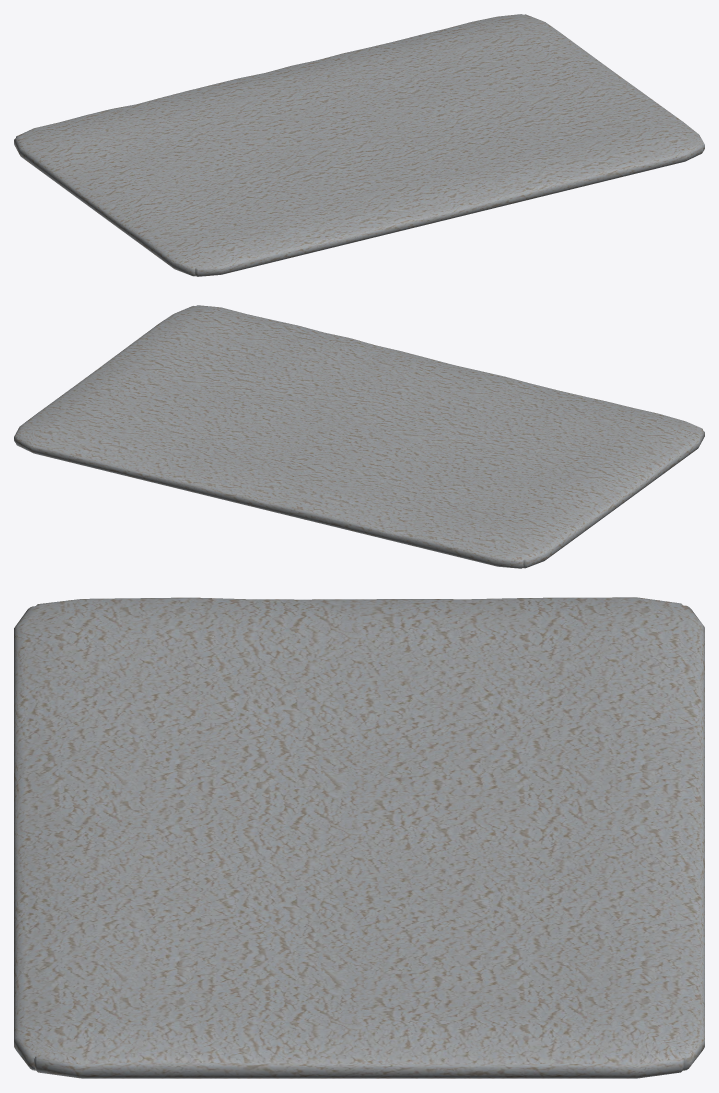
File: bath_mat.glb
3 views of the same model, one above another, from view 1: azimuth 30°, elevation 25°; view 2: azimuth 150°, elevation 25°; view 3: azimuth 270°, elevation 25° (orthographic). The views are drawn at different scales.
Visible parts, largest first — view 1: bath_mat; view 2: bath_mat; view 3: bath_mat.
Part boxes in pixels (left/top/right/bottom): bath_mat: left=14, top=14, right=704, bottom=276; bath_mat: left=14, top=305, right=704, bottom=568; bath_mat: left=14, top=597, right=704, bottom=1078.
Size of the model in its own units: 0.7991 by 0.0217 by 0.4991.
1 material, 1 textured.
